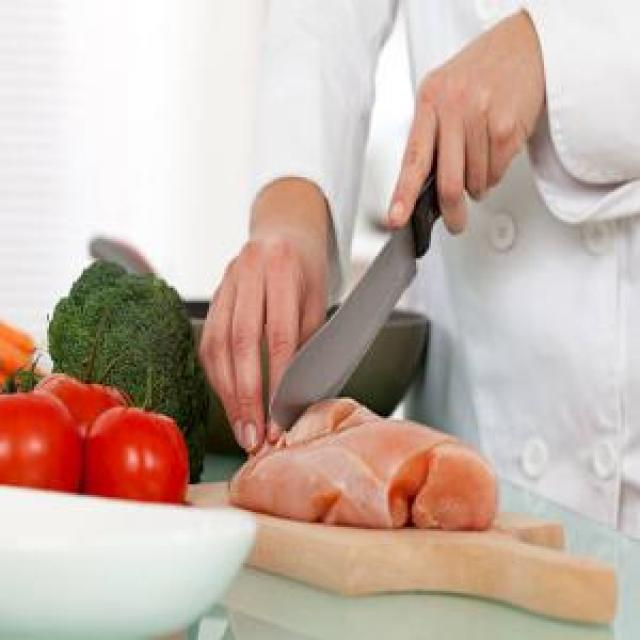knife: (271, 162, 444, 440)
